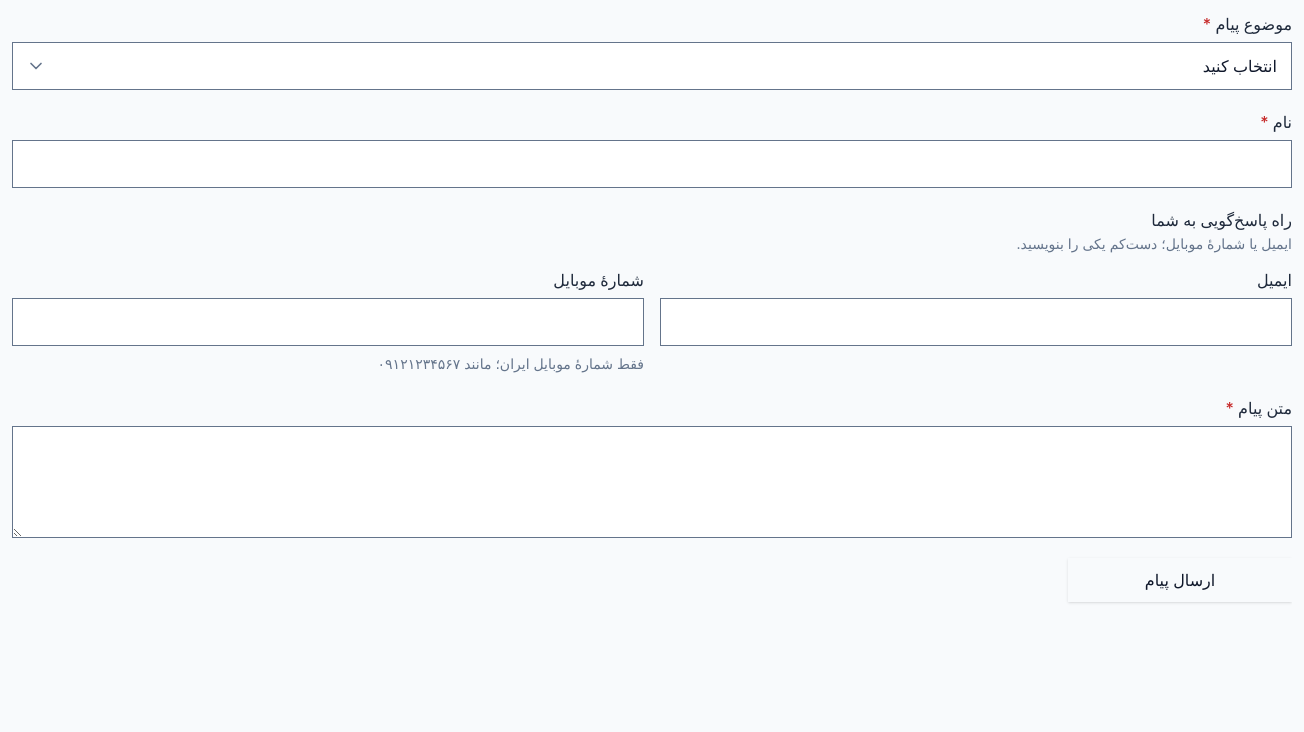
Test: a subject switched off meanwhile (contact_subject_unavailable) › reads the subjects again, redraws the select and keeps what was typed
Select "انتقاد و شکایت" in the dropdown labelled "موضوع پیام *" at (652, 66), box [12, 42, 1292, 90]
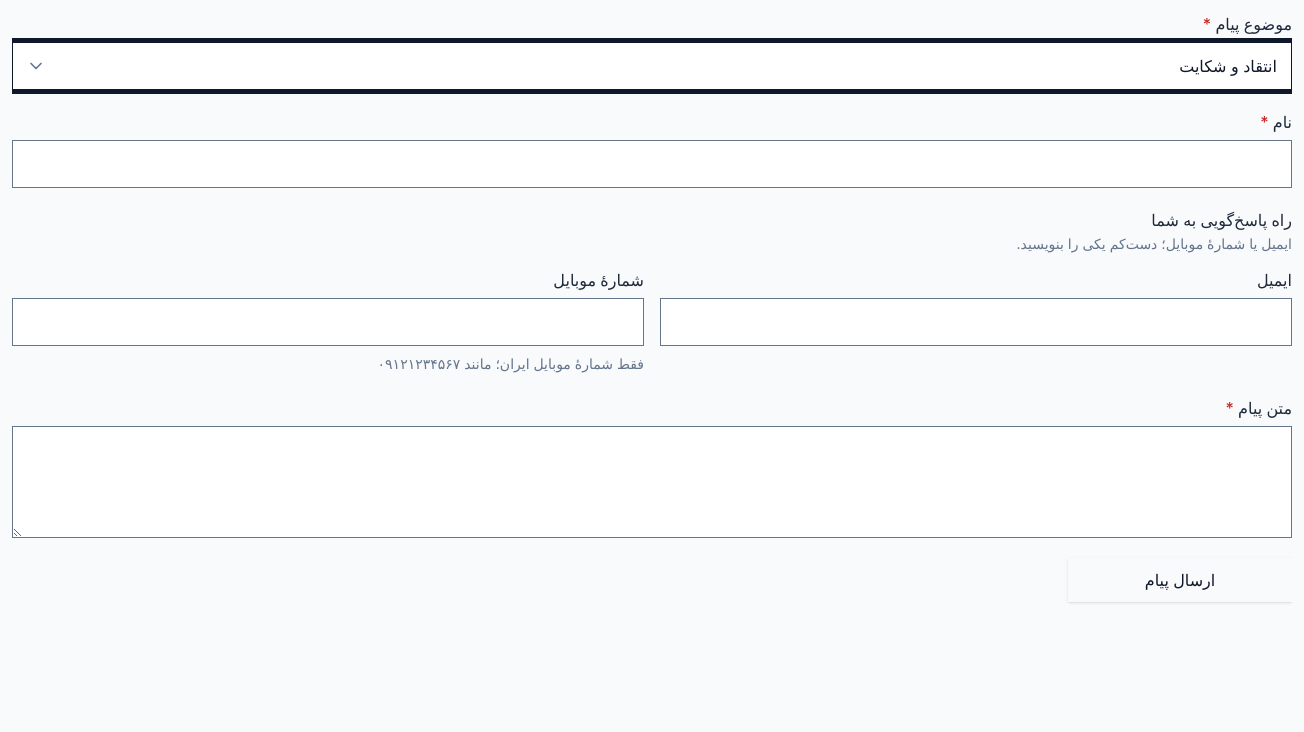
Type "سارا احمدی" into the field labelled "نام *" at (652, 164), box [13, 141, 1291, 187]
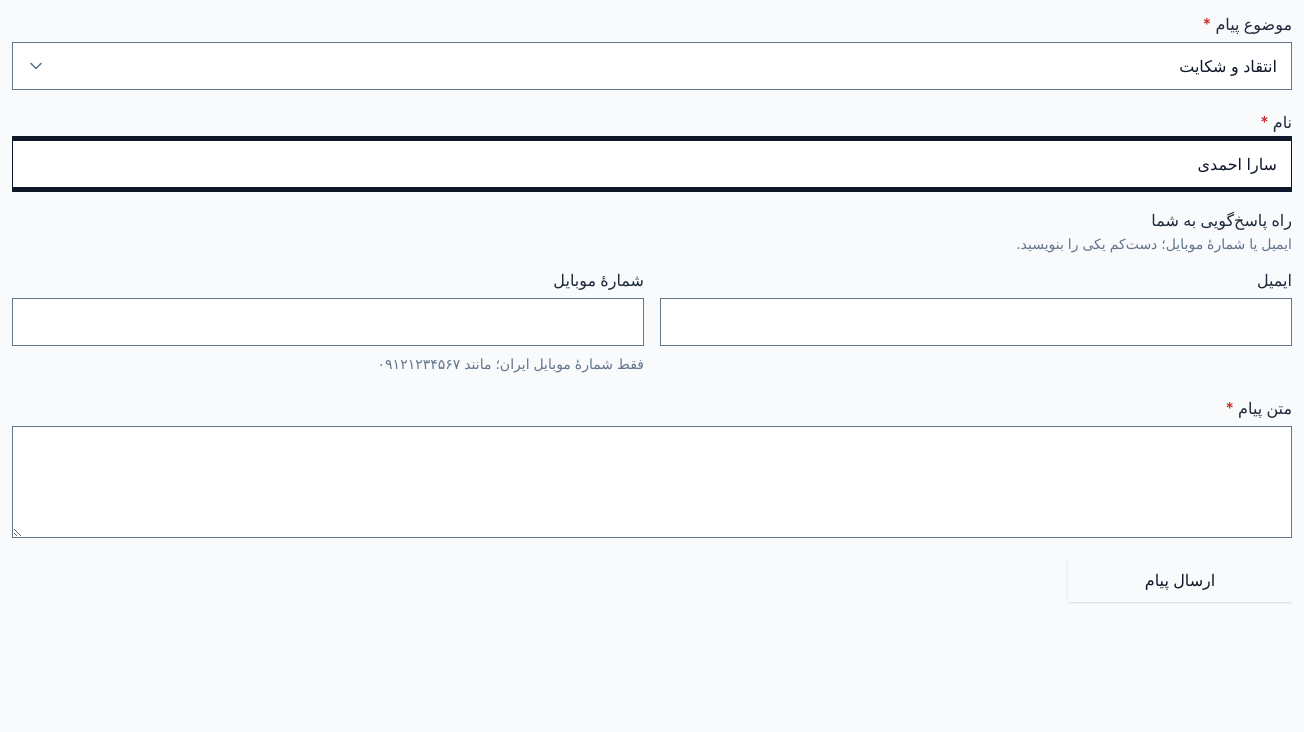
Type "sara@example.com" into the field labelled "ایمیل" at (976, 322), box [661, 299, 1291, 345]
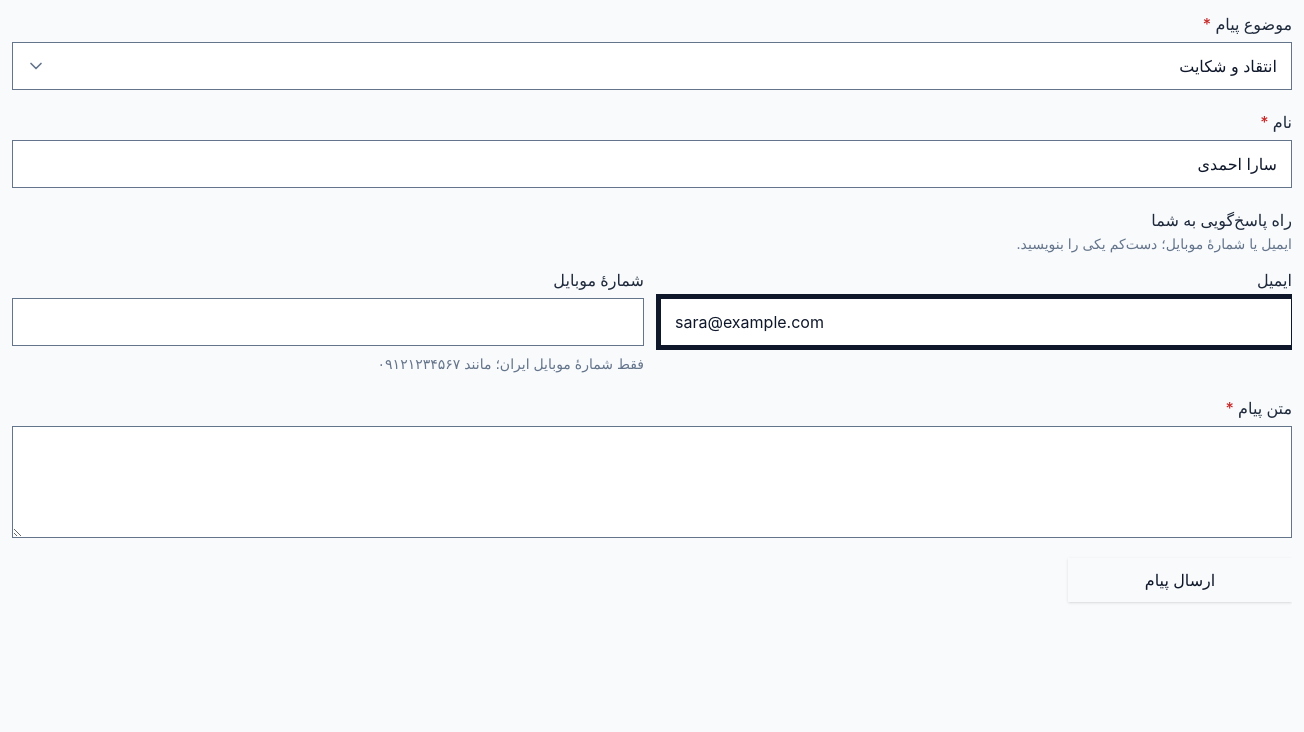
Type "۰۹۱۲ ۱۲۳ ۴۵۶۷" into the field labelled "شمارهٔ موبایل" at (328, 322), box [13, 299, 643, 345]
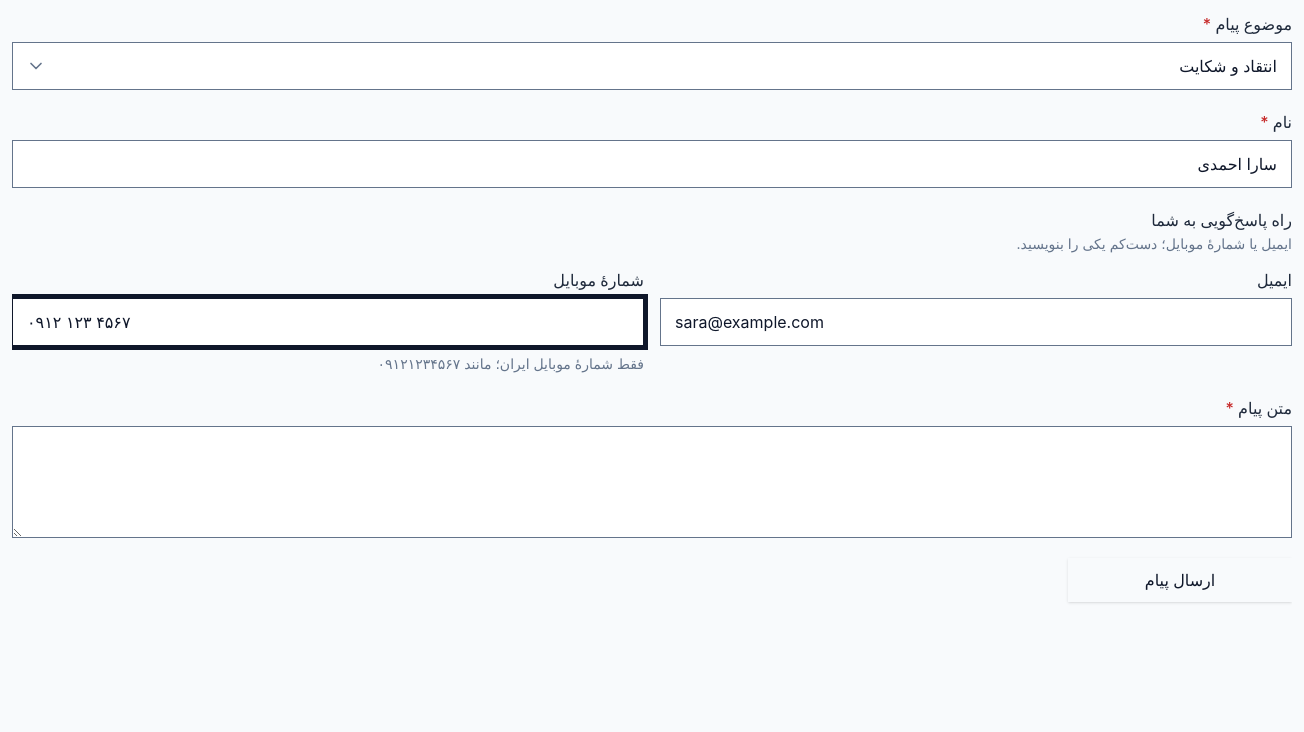
Type "سفارش ۸۴۹۲۳۷۰ هنوز نرسیده است." into the text box labelled "متن پیام *" at (652, 482), box [12, 426, 1292, 538]
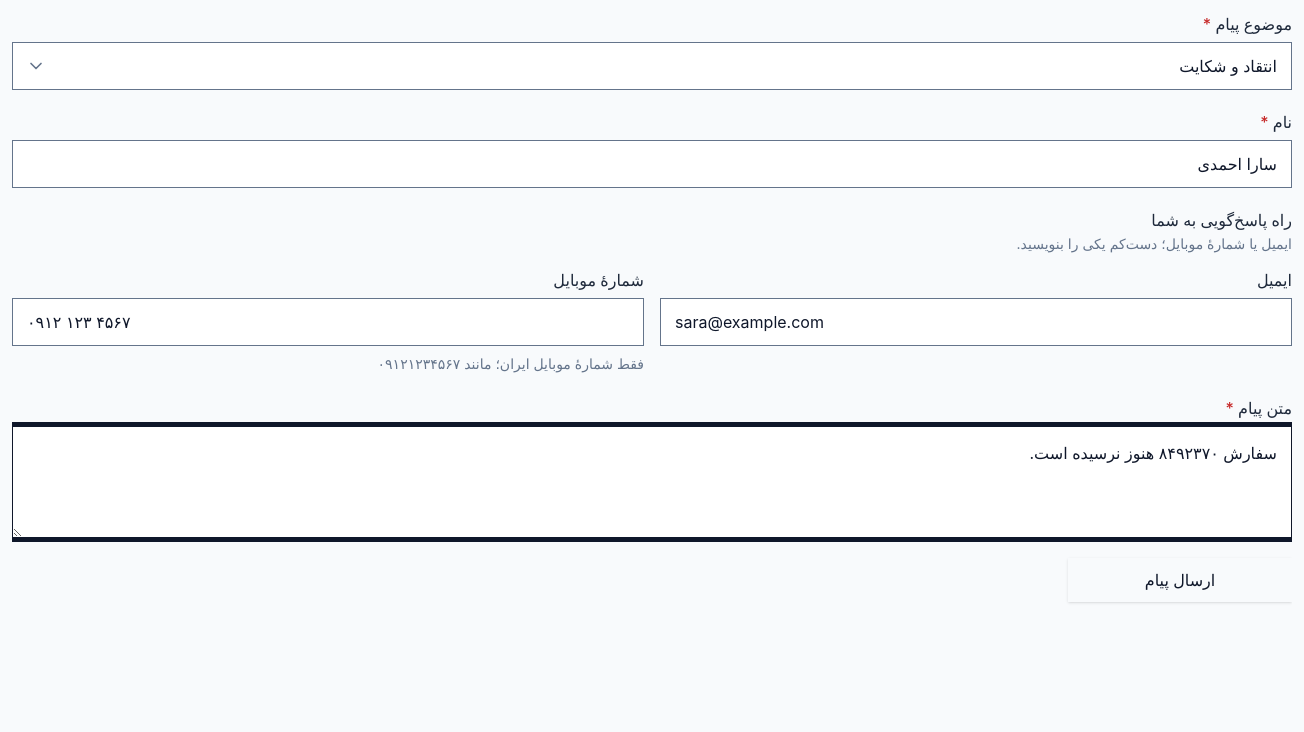
Click the button "ارسال پیام" at (1180, 580), box [1068, 558, 1292, 602]
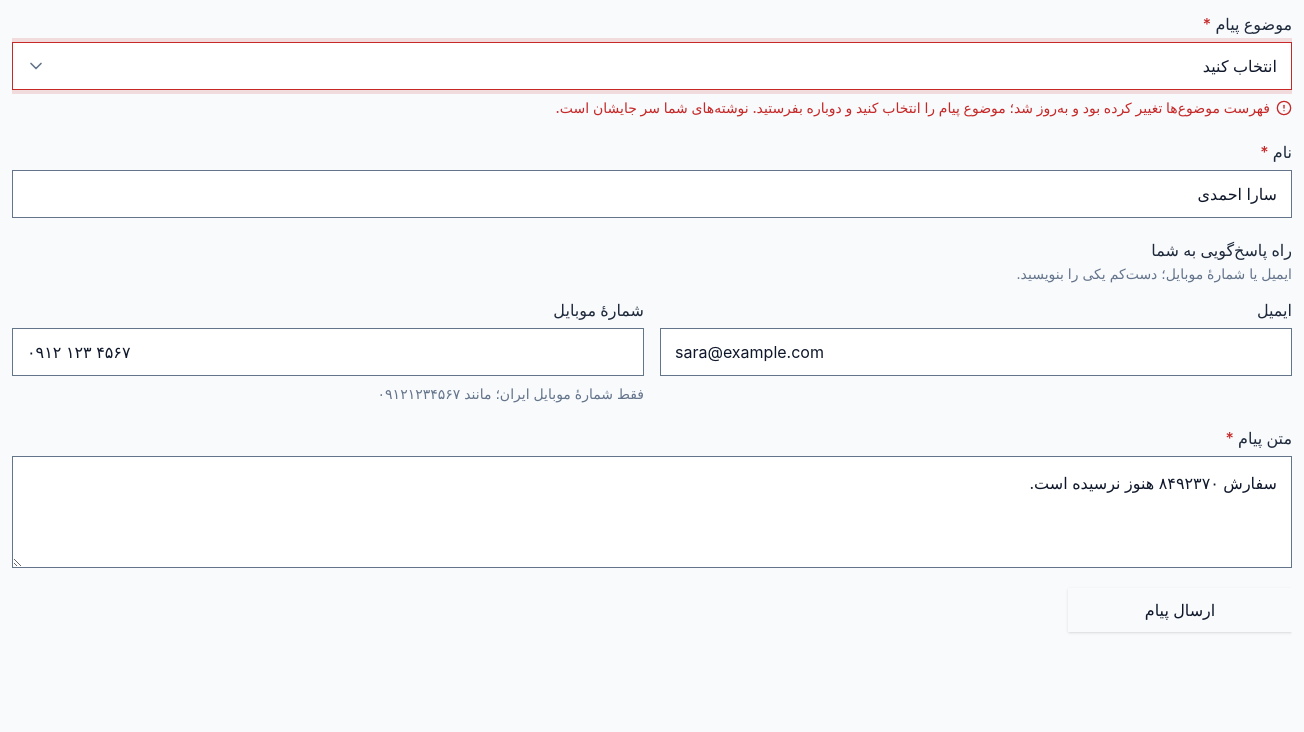
Result: the dropdown labelled "موضوع پیام *" shows "انتخاب کنید" at [12, 42, 1292, 90]
